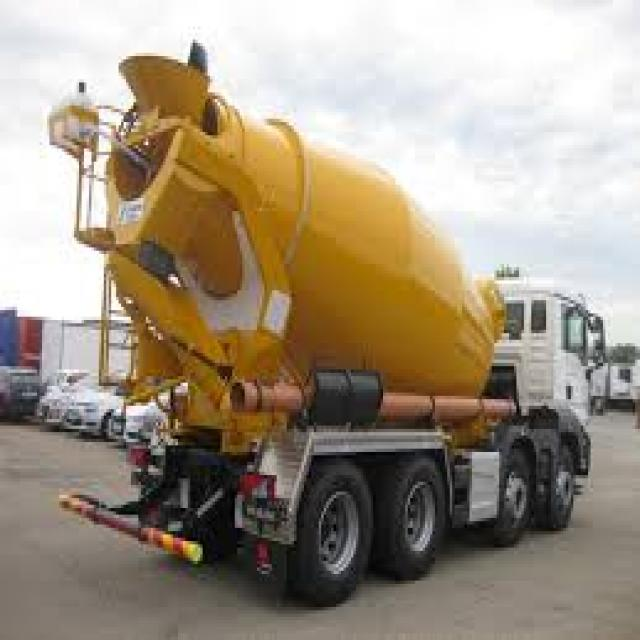Mixer Truck: (44, 36, 608, 606)
